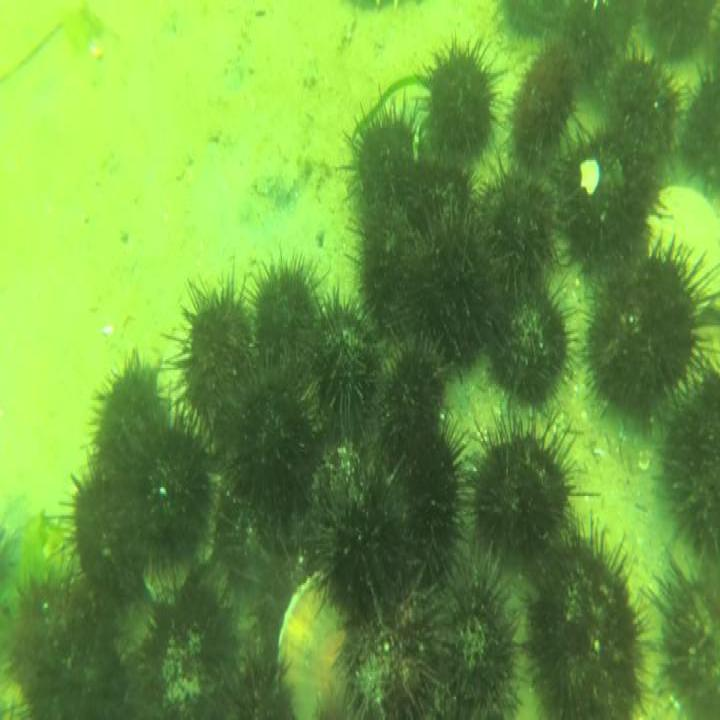echinus: (523, 522, 646, 720), (581, 238, 708, 425), (5, 565, 129, 720), (222, 366, 320, 544), (466, 413, 575, 570), (404, 196, 496, 375), (302, 452, 400, 618), (375, 412, 468, 586), (552, 127, 662, 268), (427, 560, 521, 720), (138, 574, 241, 720), (171, 278, 259, 436), (340, 576, 433, 720), (304, 291, 383, 449), (648, 547, 720, 720), (358, 187, 435, 346), (483, 281, 577, 411), (475, 164, 558, 306), (658, 364, 720, 553), (137, 411, 213, 560), (71, 457, 148, 601), (418, 36, 502, 166), (506, 39, 581, 171), (346, 100, 424, 224), (93, 357, 169, 482), (602, 41, 681, 158), (246, 254, 321, 372), (382, 343, 449, 443), (215, 652, 297, 720), (682, 66, 720, 194), (642, 0, 715, 66), (494, 0, 591, 46)
scallop: (269, 565, 343, 720), (648, 183, 720, 317)
